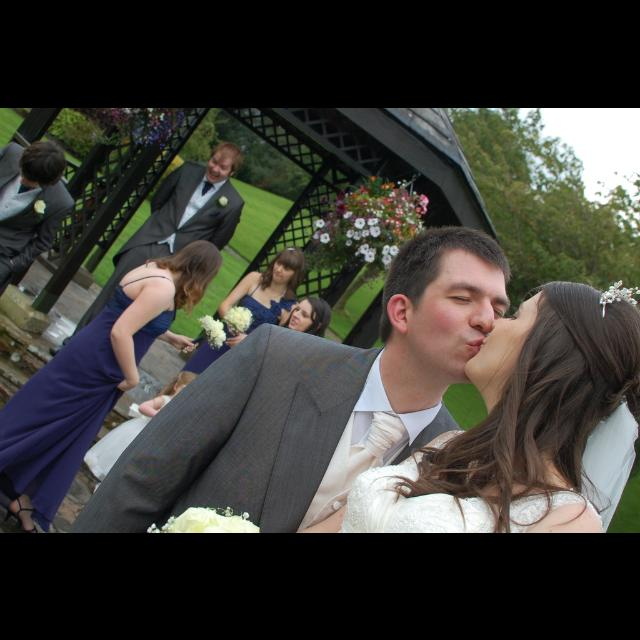Flower: (348, 176, 427, 238), (100, 107, 186, 153), (147, 504, 260, 532), (599, 280, 639, 310), (322, 188, 346, 236), (198, 314, 226, 350), (225, 307, 252, 337), (364, 250, 374, 264), (36, 196, 44, 212), (319, 232, 329, 244), (353, 218, 365, 228), (369, 225, 381, 235), (418, 192, 428, 202), (220, 193, 227, 207), (381, 242, 389, 254), (368, 217, 378, 226), (382, 254, 391, 264), (342, 209, 352, 217), (388, 244, 398, 252), (359, 243, 369, 250), (316, 217, 324, 225), (352, 230, 360, 238), (362, 229, 368, 235), (346, 228, 350, 236), (345, 240, 353, 243)
